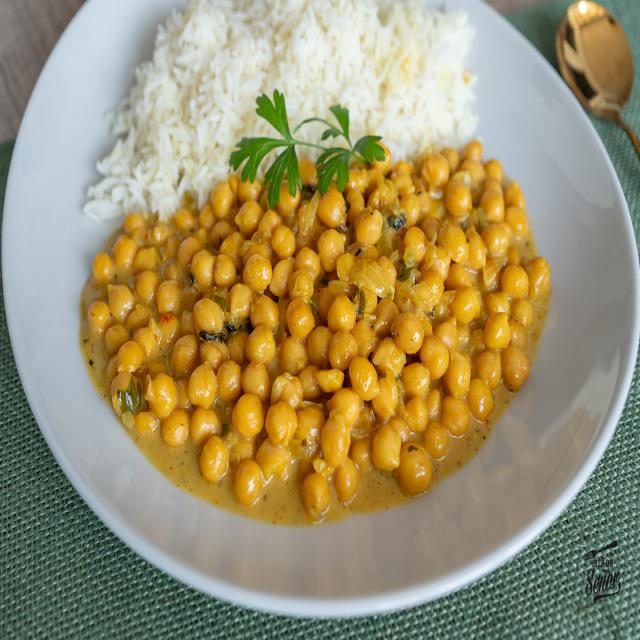arroz: (92, 0, 482, 213)
garbanzos: (72, 148, 559, 524)
